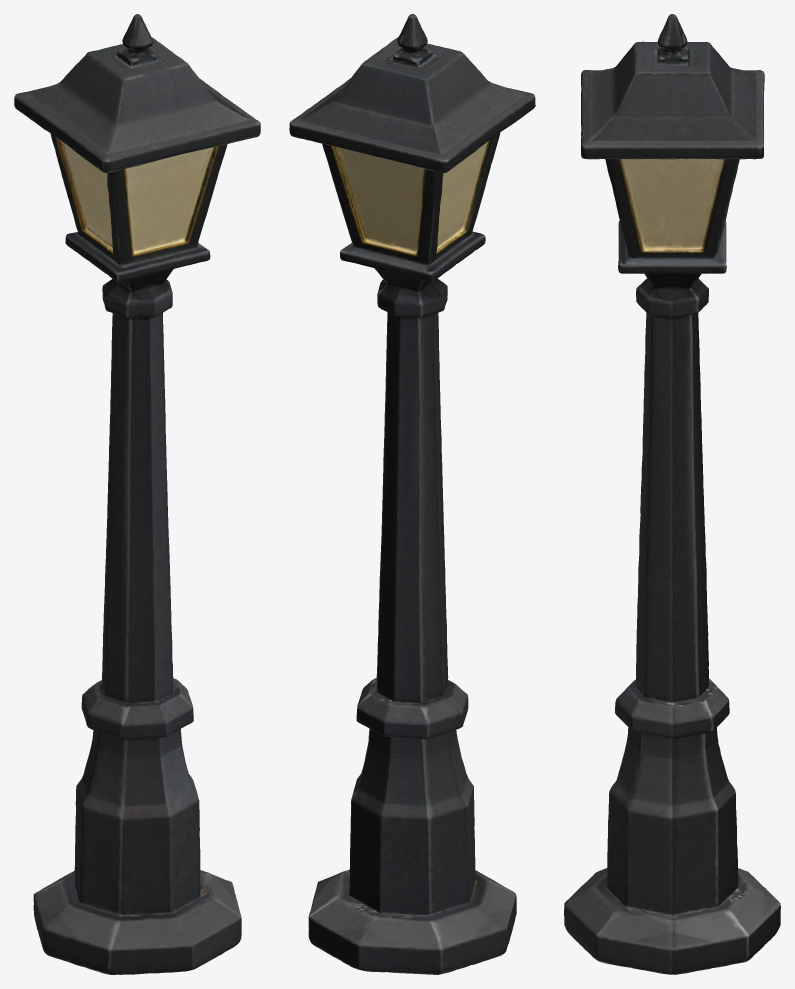
The model's file is 롯데_가로등.glb.
3 renders of one model, left to right at view 1: azimuth 30°, elevation 25°; view 2: azimuth 150°, elevation 25°; view 3: azimuth 270°, elevation 25°, orthographic.
Parts seen in each view (by area): view 1: texture_mapping; view 2: texture_mapping; view 3: texture_mapping.
Boxes of the visible parts, <box> form: texture_mapping: <box>14,14,260,974</box>; texture_mapping: <box>289,14,535,974</box>; texture_mapping: <box>564,14,780,974</box>.
Bounding box in the file's own units: 0.2146 × 1 × 0.2144.
Materials: 1 (1 with a texture image).
